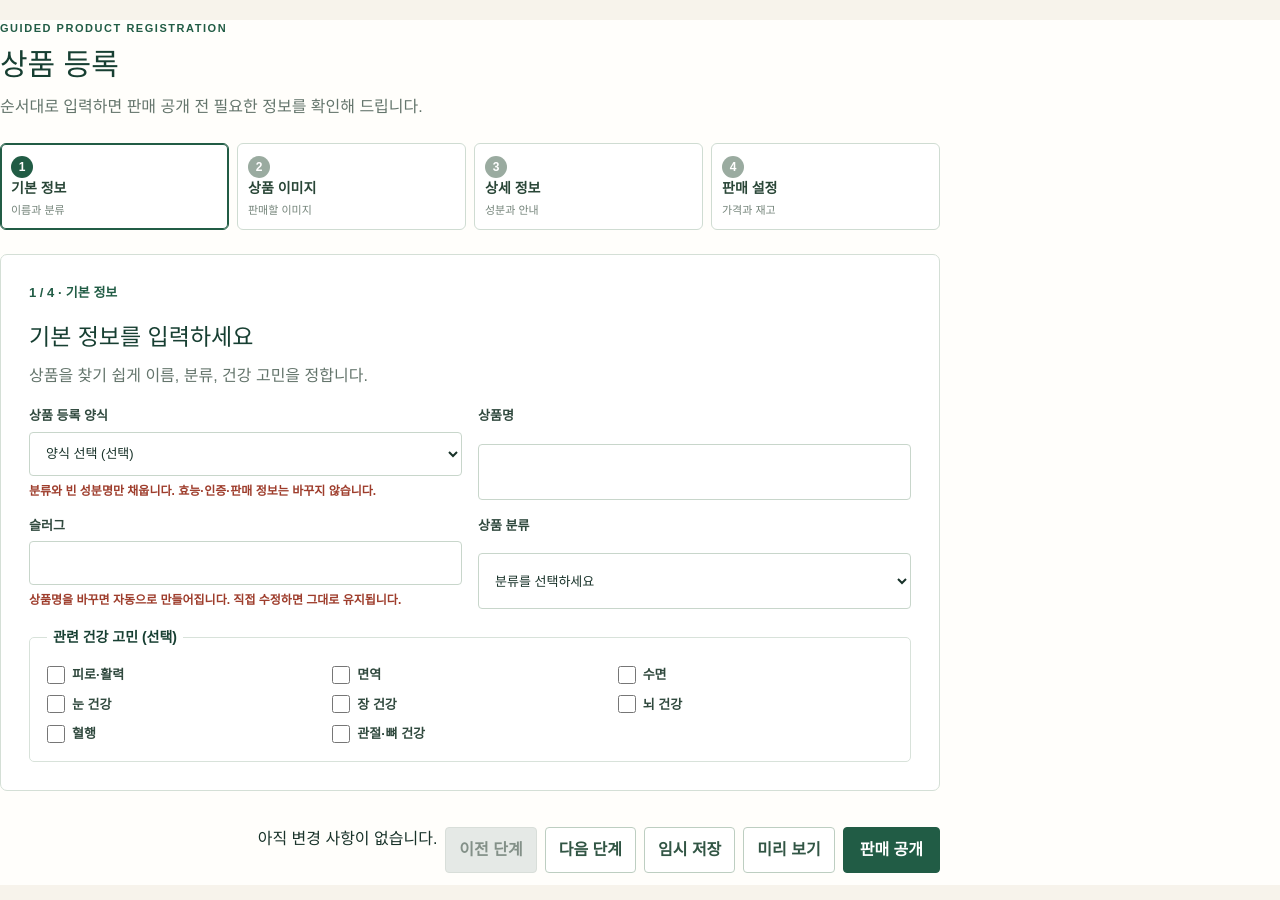
Scenario: shows the same operation alert when preview throws synchronously
Click the button "미리 보기": x=789, y=850 [743, 827, 835, 873]
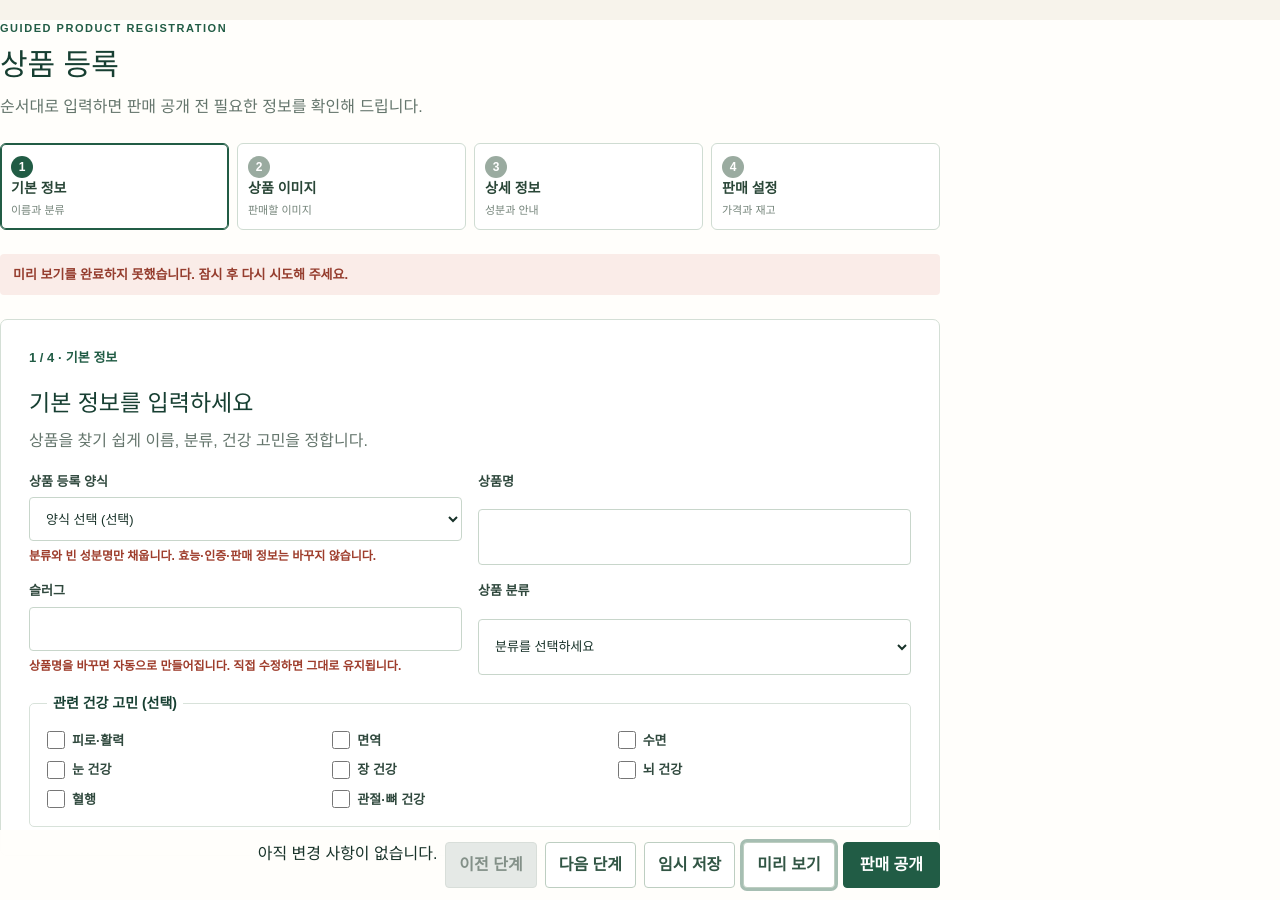
Result: the message "미리 보기를 완료하지 못했습니다. 잠시 후 다시 시도해 주세요." is shown at [0, 254, 940, 295]
